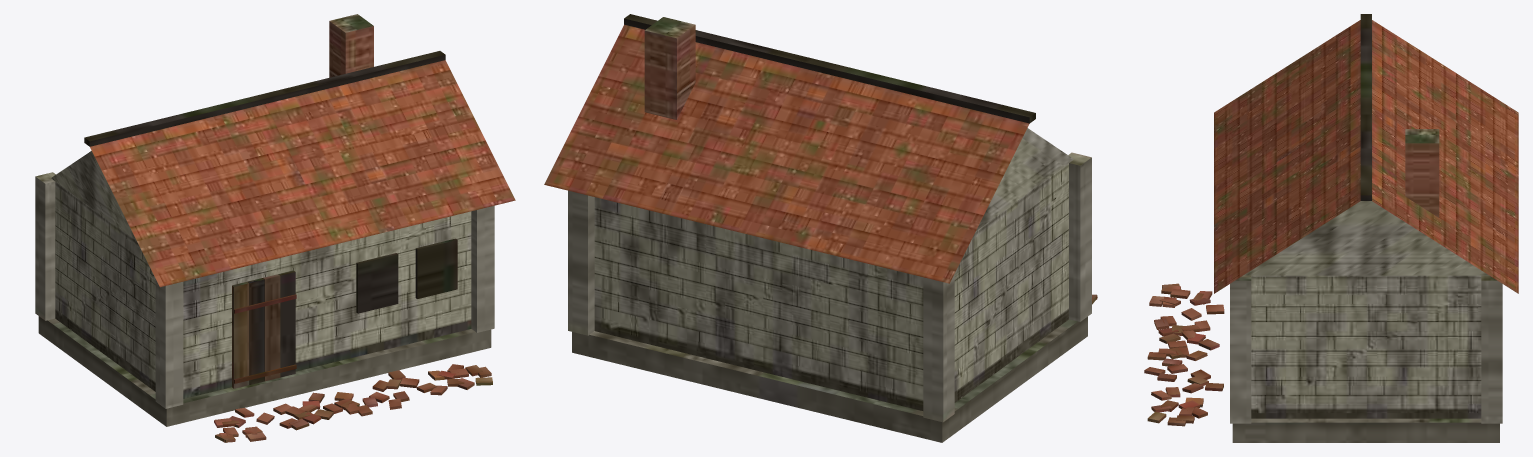
Rendered from starfort_guardhouse_hero.glb.
The picture shows the model from 3 angles, left to right: view 1: azimuth 30°, elevation 25°; view 2: azimuth 150°, elevation 25°; view 3: azimuth 270°, elevation 25°; orthographic projection. The views are drawn at different scales.
Visible parts, largest first — view 1: intact, door, breached, cracked; view 2: intact; view 3: intact, cracked, breached.
Part boxes in pixels (bbox=[...]): intact: bbox=[35, 14, 515, 426]; door: bbox=[232, 270, 296, 388]; breached: bbox=[215, 368, 468, 442]; cracked: bbox=[214, 364, 492, 442]; intact: bbox=[544, 14, 1091, 442]; intact: bbox=[1214, 14, 1518, 442]; cracked: bbox=[1147, 285, 1224, 426]; breached: bbox=[1144, 283, 1223, 415].
Size of what is drawn, in the model's own units: 6.9 by 5 by 6.02.
Materials: 1 (1 with a texture image).
